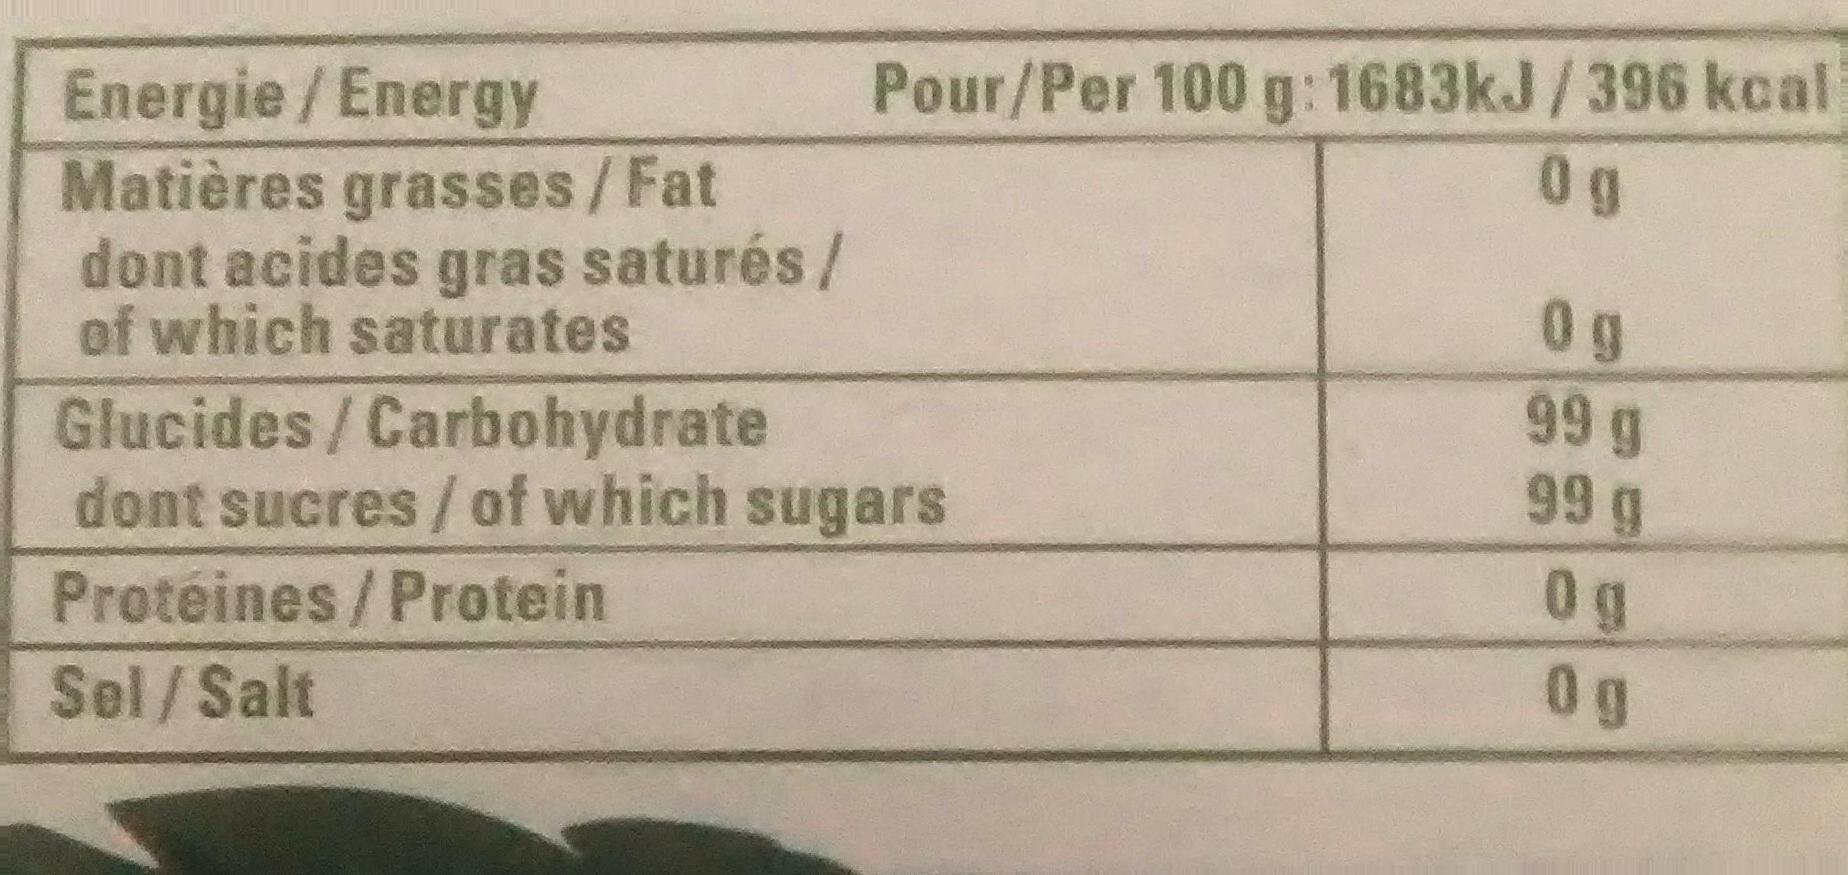column: (60, 58, 834, 748), (1527, 138, 1651, 718)
line: (80, 254, 1622, 354), (62, 53, 1809, 121), (60, 156, 1628, 224), (60, 667, 1638, 732), (59, 570, 1642, 624), (62, 481, 1639, 535), (59, 394, 1648, 446)
table: (6, 22, 1846, 777)
